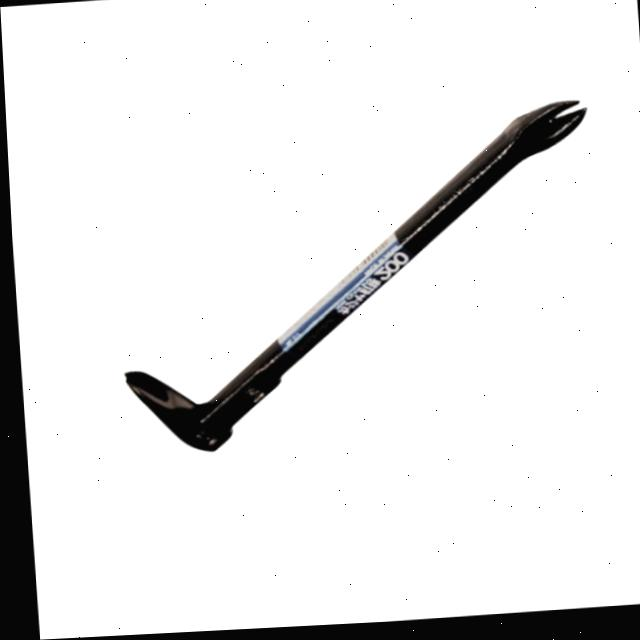crow bar: (117, 107, 587, 455)
